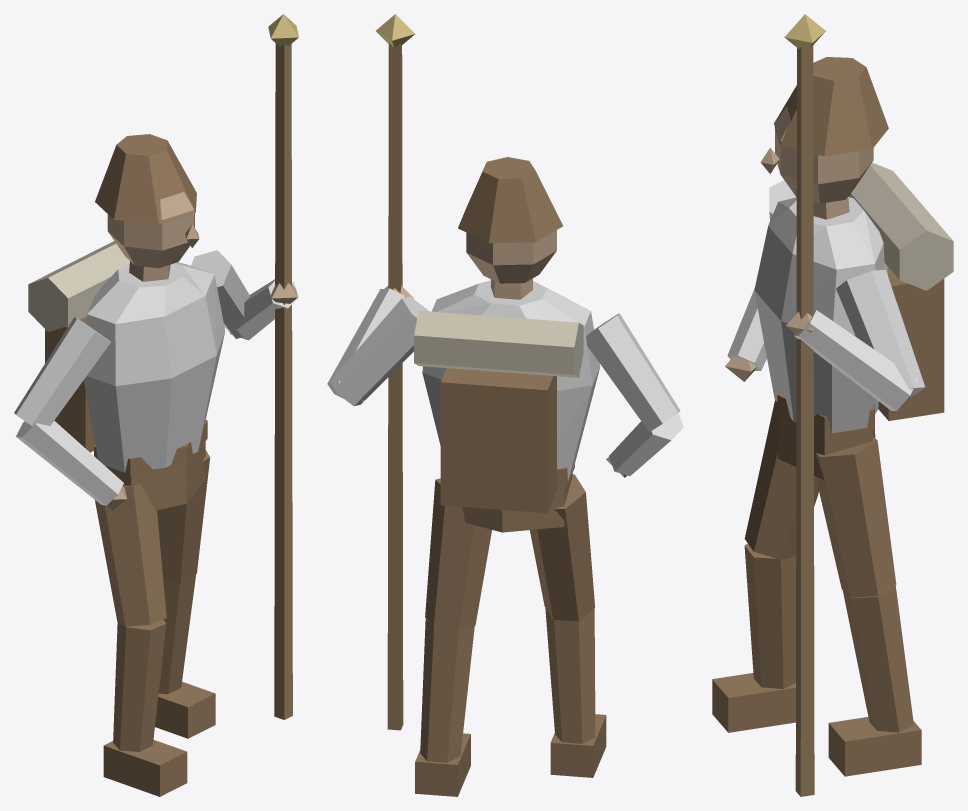
File: scout.glb
3 views of the same model, side by side, from view 1: azimuth 30°, elevation 25°; view 2: azimuth 150°, elevation 25°; view 3: azimuth 270°, elevation 25° (orthographic). The views are drawn at different scales.
Visible parts, largest first — view 1: LOD0; view 2: LOD0; view 3: LOD0.
Part boxes in pixels (box(x1,y1,x2,y2)): LOD0: box(14, 14, 298, 796); LOD0: box(327, 14, 683, 796); LOD0: box(712, 14, 953, 796).
Size of what is drawn, in the model's own units: 0.5063 by 1.18 by 0.3261.
